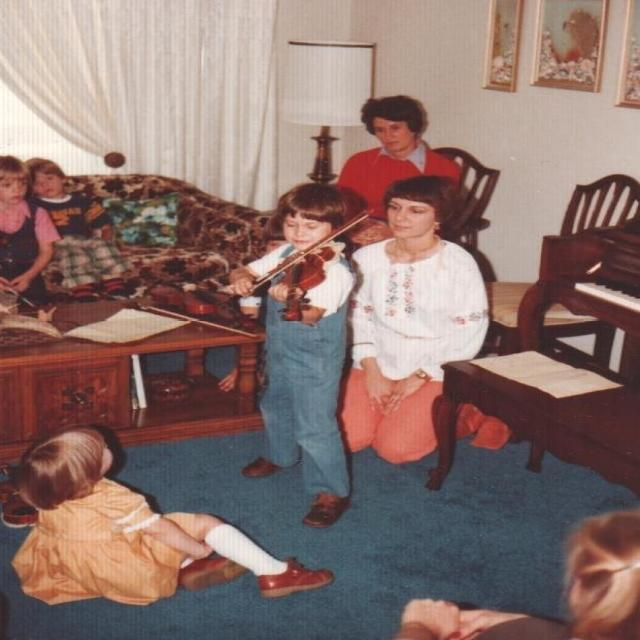violin: (279, 243, 338, 324)
